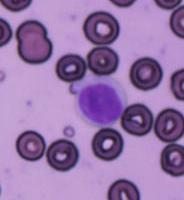L: (72, 75, 127, 128)
